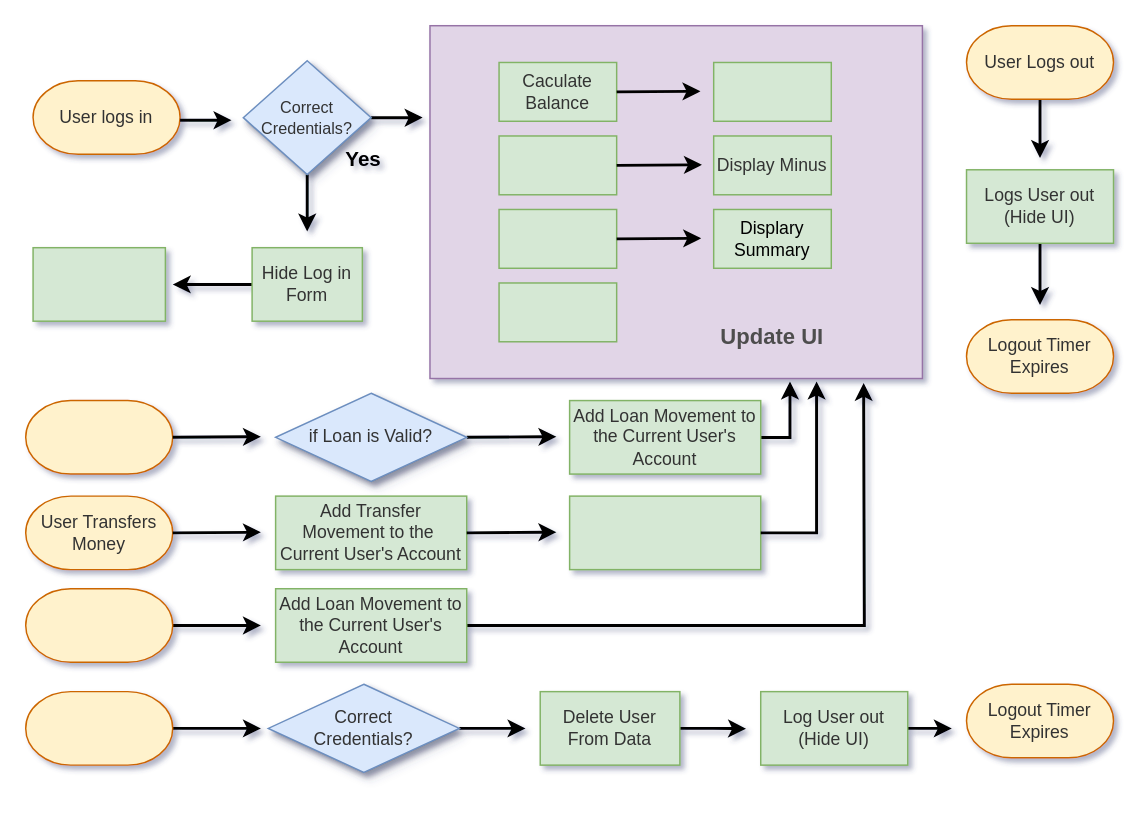
The diagram is 1148 pixels wide and 817 high, and some of its shapes have lost their labels. The centre of each missing label's shape, as x and y in pixels:
"Add Recevie Movement to the Recipient's Account" goes at (664,532).
"Caculate Minus" goes at (557,165).
"Calculate Summary" goes at (557,238).
"Display Balance" goes at (771,91).
"Display UI and Welecome Message" goes at (98,283).
"Start/Restart Timer" goes at (557,312).
"User Closes Account" goes at (98,727).
"User Receives Money" goes at (98,624).
"User Requests Loan" goes at (98,436).
